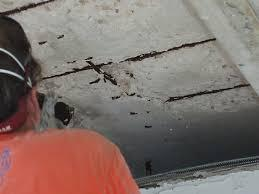exposed_rebar: (120, 38, 216, 62), (41, 56, 117, 85), (164, 83, 250, 102), (0, 0, 55, 15), (66, 60, 77, 64), (38, 41, 47, 45), (57, 34, 64, 39), (112, 96, 120, 100), (128, 93, 136, 96), (130, 112, 137, 115), (145, 125, 152, 128), (130, 73, 134, 77), (125, 71, 130, 74), (137, 95, 142, 97)
spalling: (41, 37, 215, 126), (160, 74, 256, 112), (0, 0, 65, 15)
